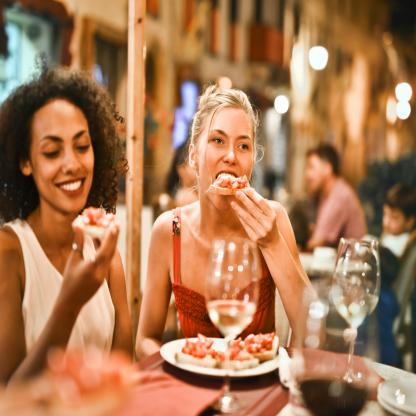Eye: (42, 144, 63, 160), (73, 138, 92, 154), (209, 132, 226, 148), (235, 139, 251, 155)
Mouth: (53, 177, 90, 197), (216, 170, 239, 185)
Nose: (61, 148, 82, 176), (223, 141, 238, 166)
